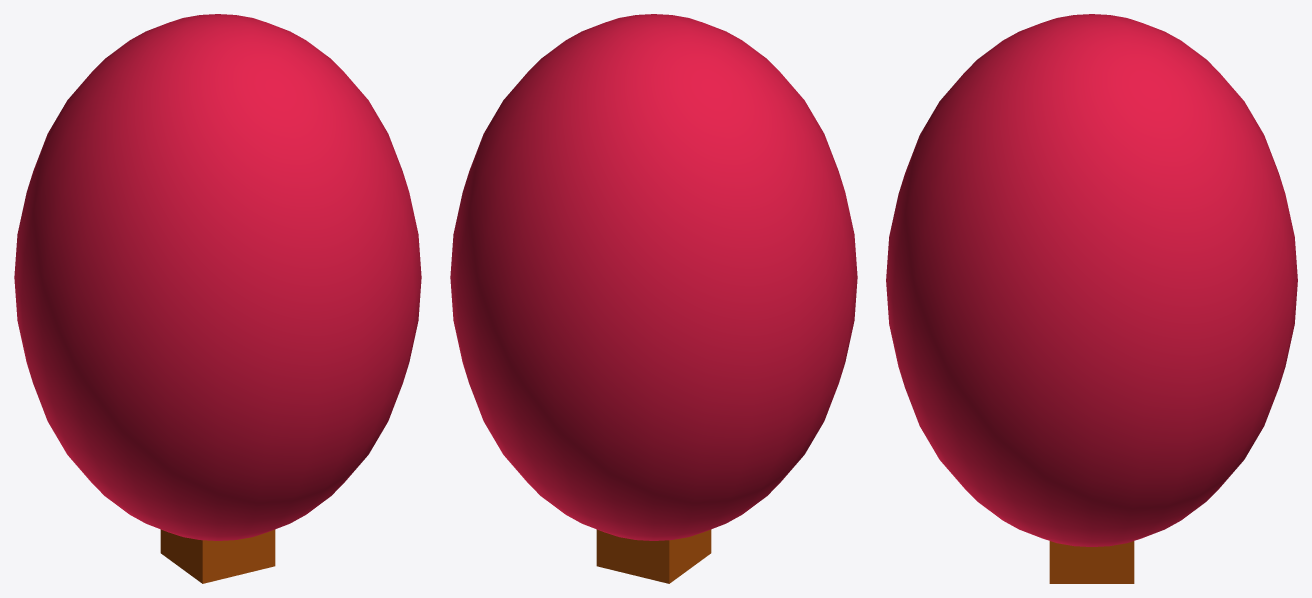
Rendered from hot_balloon.glb.
The picture shows the model from 3 angles, left to right: view 1: azimuth 30°, elevation 25°; view 2: azimuth 150°, elevation 25°; view 3: azimuth 270°, elevation 25°; orthographic projection.
Size of the model in its own units: 0.6946 by 1 by 0.6946.
